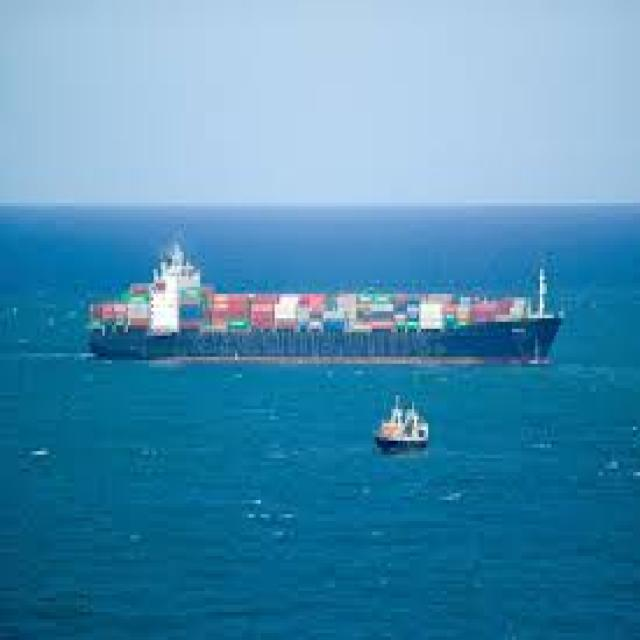cargoship: (87, 226, 558, 370)
houseboat: (374, 393, 433, 452)
